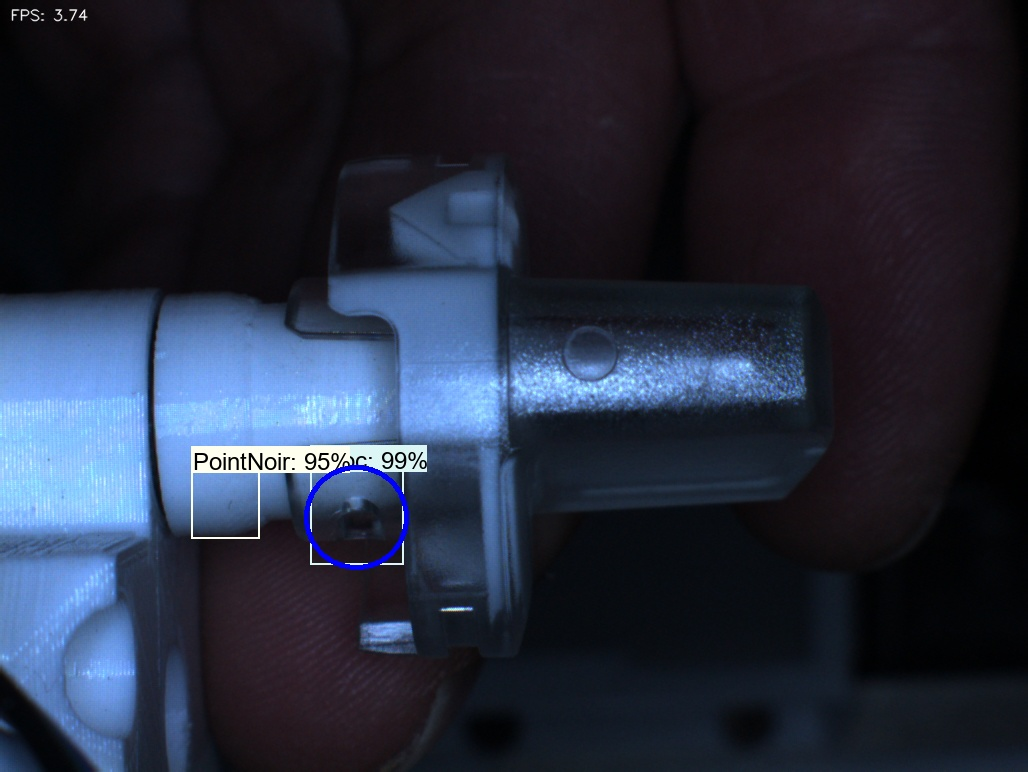DentOk: (362, 182, 439, 270)
